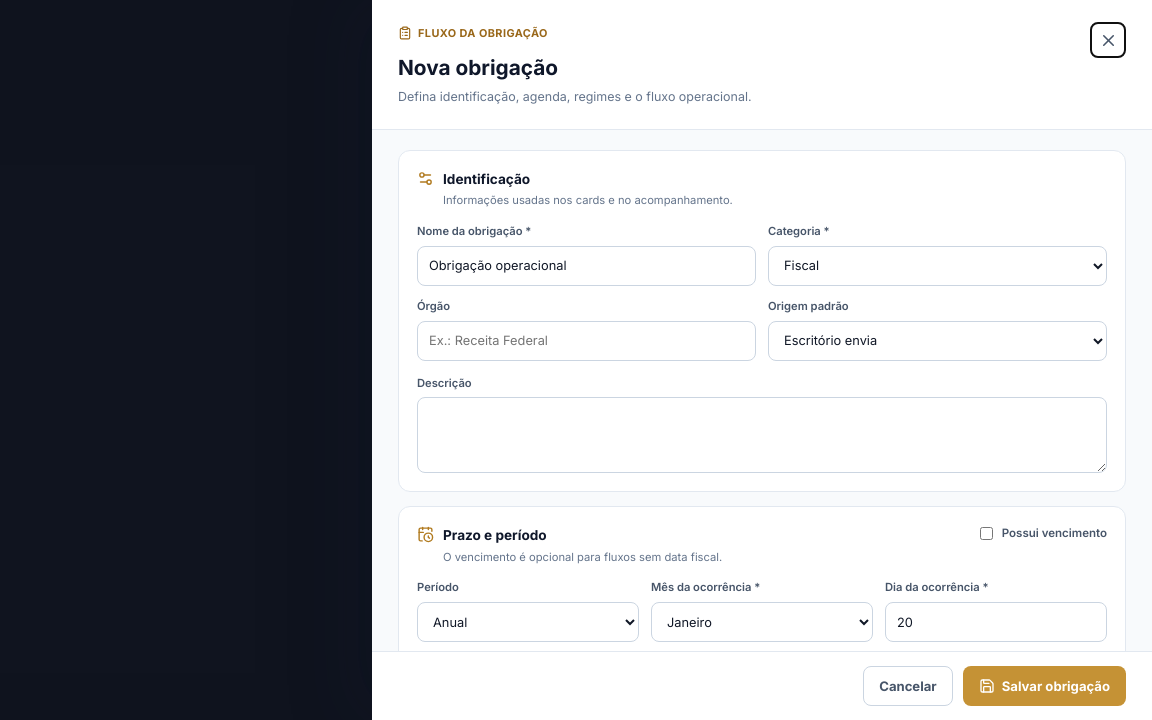
it: ObrigacaoEditorDrawer agenda operacional › exige a agenda de {"periodicidade":"anual"} mesmo sem prazo fiscal
What coordinates should you click on to do the following:
click the button "Salvar obrigação"
I would click on:
 (1044, 686)
Its box is [963,666,1126,706].
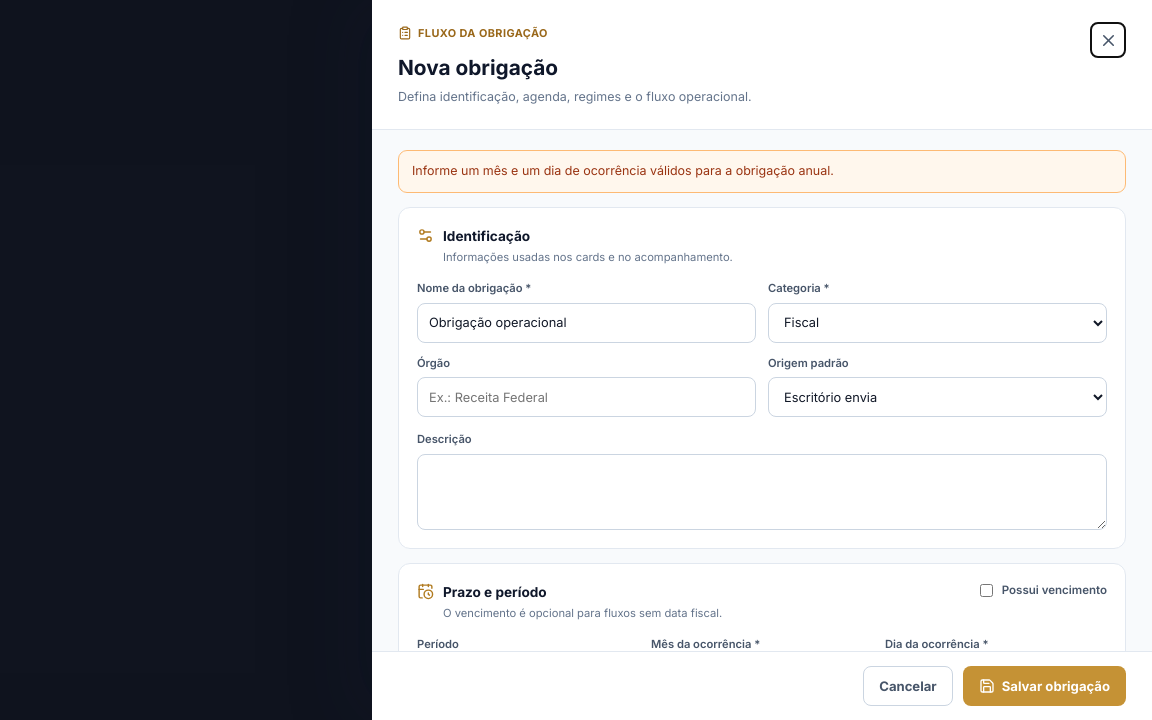
Expected: the message reads "Informe um mês e um dia de ocorrência válidos para a obrigação anual.", [412,163,834,178]
